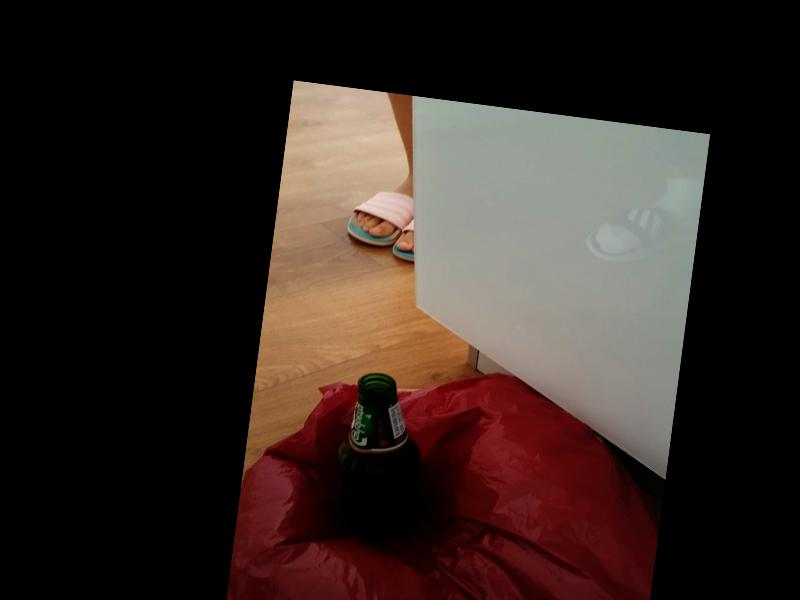Beer: (328, 370, 437, 545)
